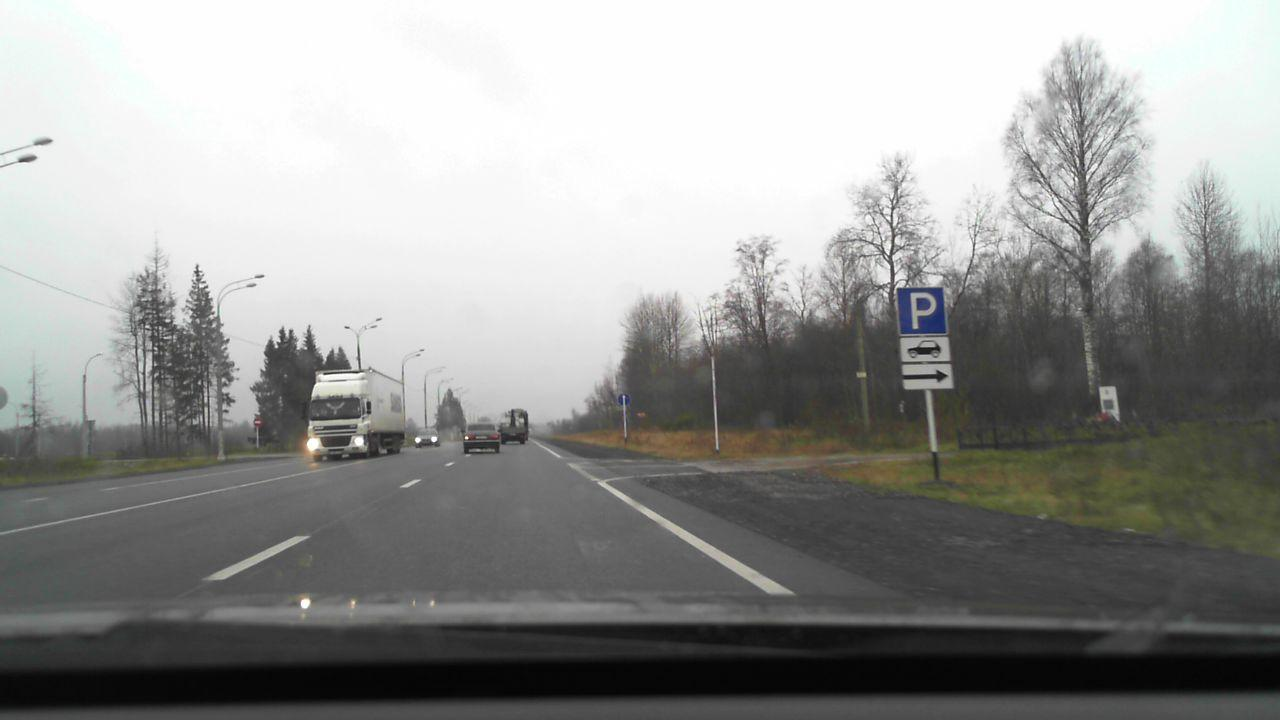4_1_1: (618, 391, 631, 407)
6_4: (896, 287, 947, 336)
8_3_1: (899, 364, 954, 391)
8_4_3_2: (900, 338, 950, 362)
